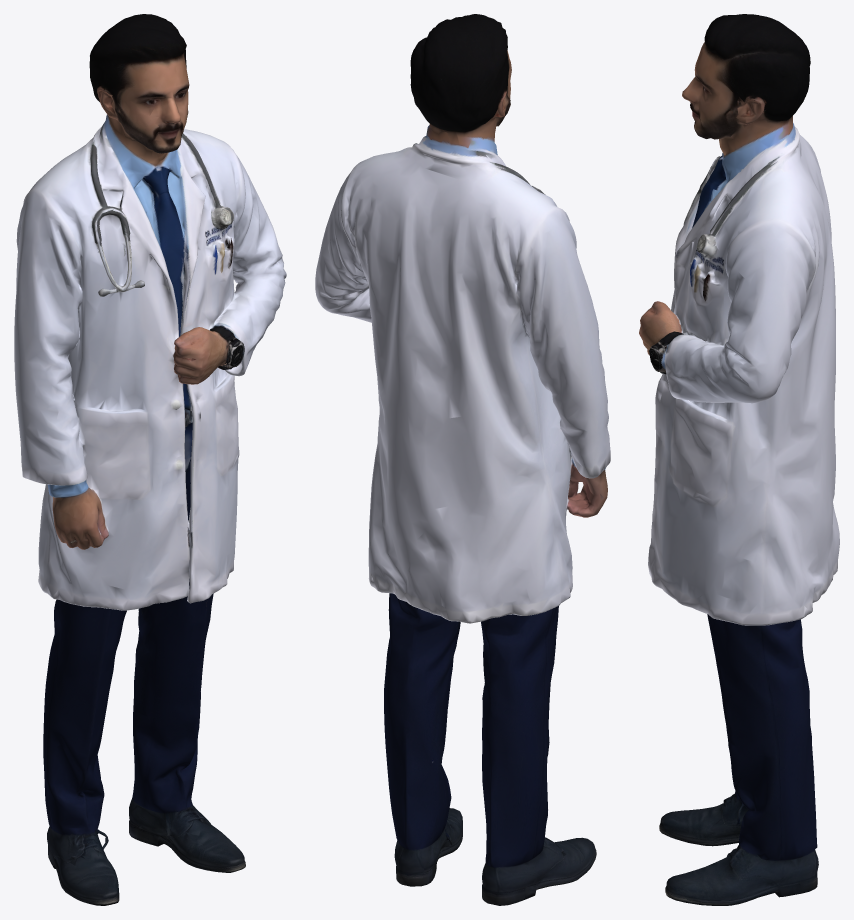
File: DrRavi.glb
3 views of the same model, side by side, from view 1: azimuth 30°, elevation 25°; view 2: azimuth 150°, elevation 25°; view 3: azimuth 270°, elevation 25° (orthographic). The views are drawn at different scales.
Visible parts, largest first — view 1: mesh_node; view 2: mesh_node; view 3: mesh_node.
Part boxes in pixels (<box>): mesh_node: <box>14,14,286,905</box>; mesh_node: <box>315,14,610,905</box>; mesh_node: <box>639,14,839,905</box>.
Bounding box in the file's own units: 0.5744 × 1.7 × 0.363.
Materials: 1 (1 with a texture image).
